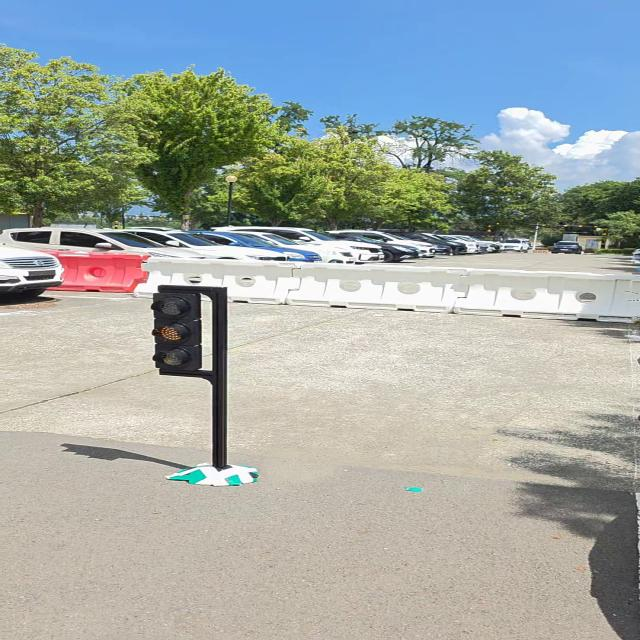yellow: (150, 293, 202, 372)
